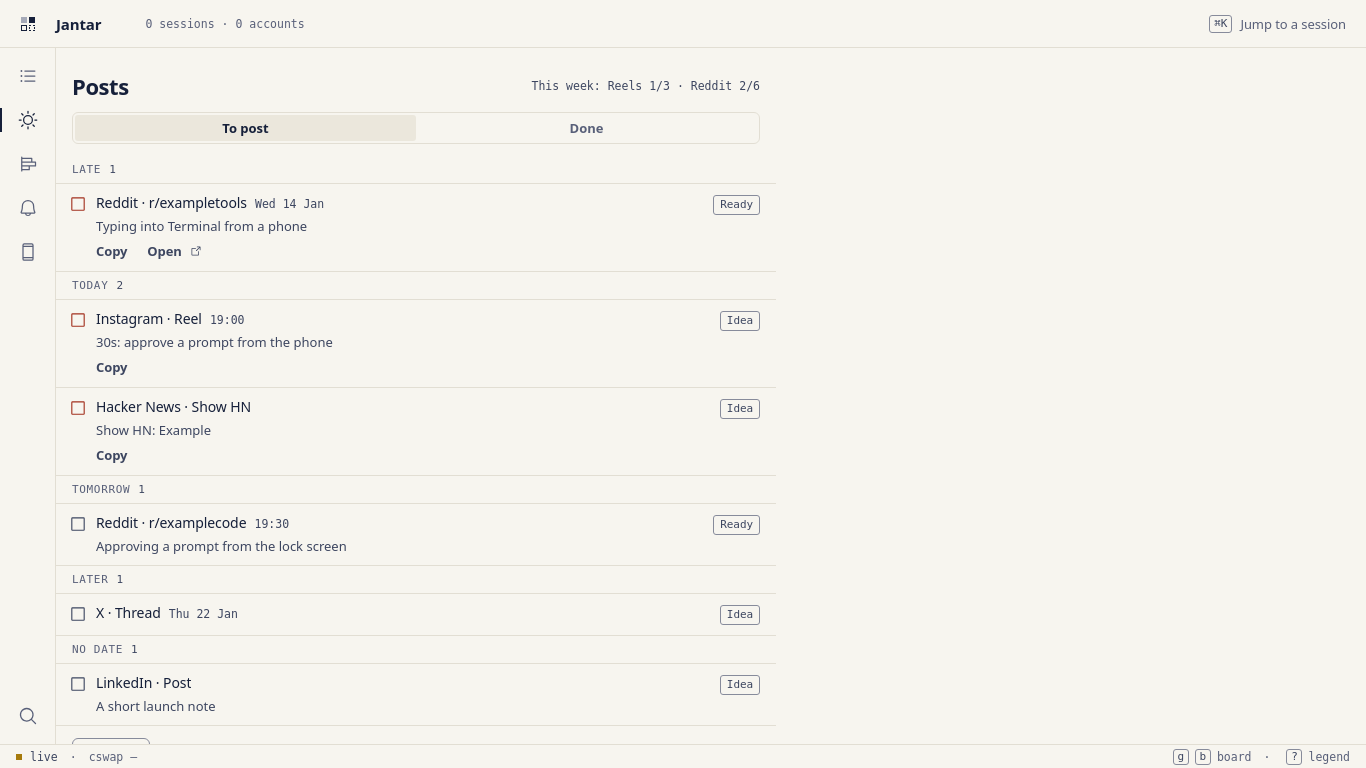
Test case: Posts: the list › says the week against the goals in the header and the count in the footer; the line opens the goals
Click the button "This week: Reels 1/3 · Reddit 2/6". click: coordinates (646, 86)
box: [532,78,760,94]
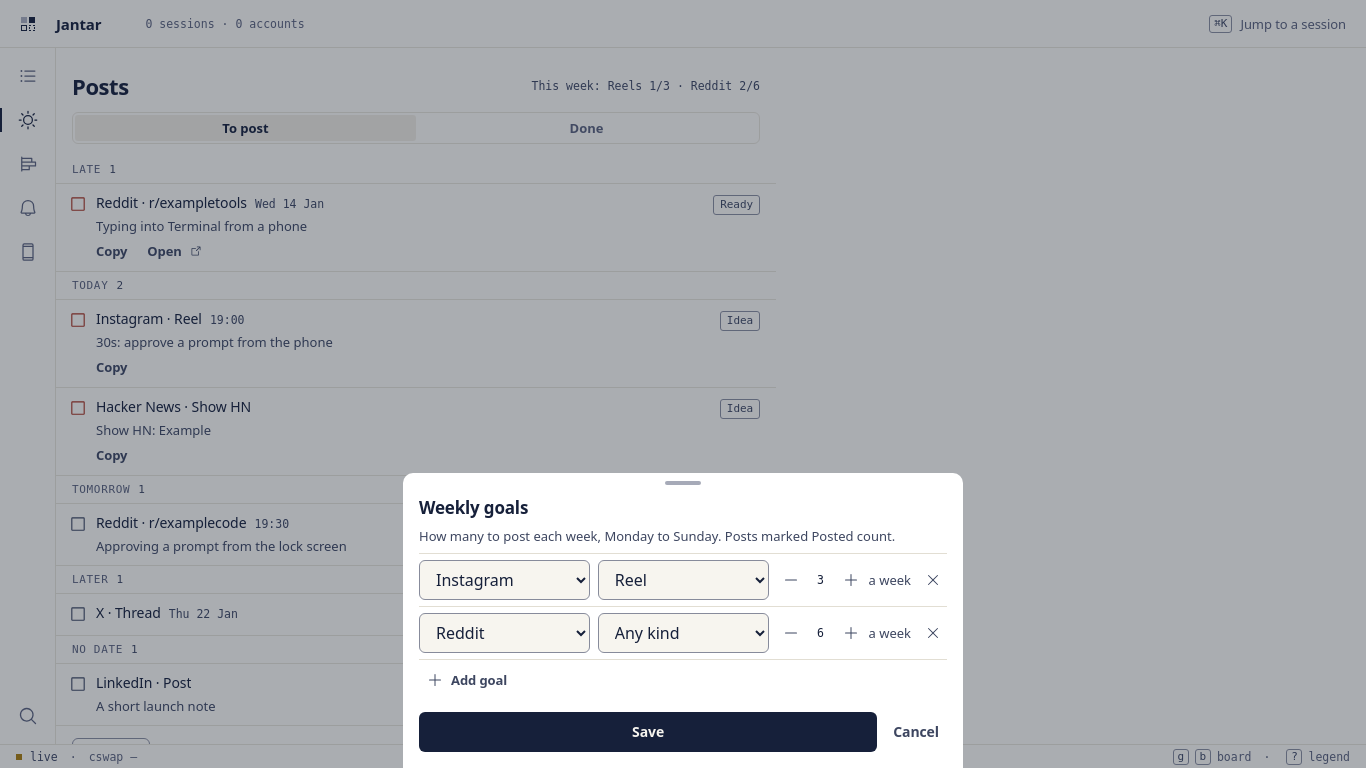
Check: the dialog "Weekly goals" is shown, box [403,473,963,767]
